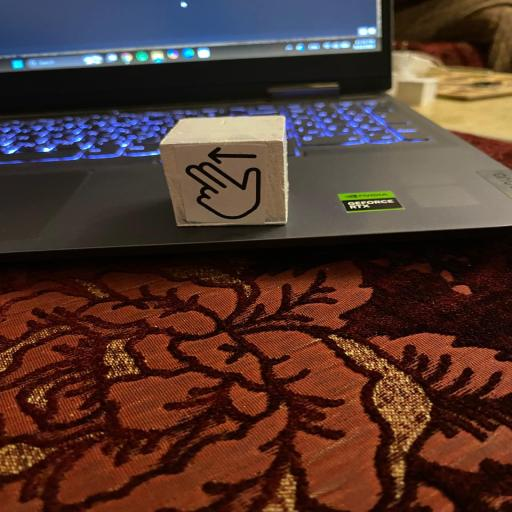LeftSwipe: (160, 116, 291, 226)
